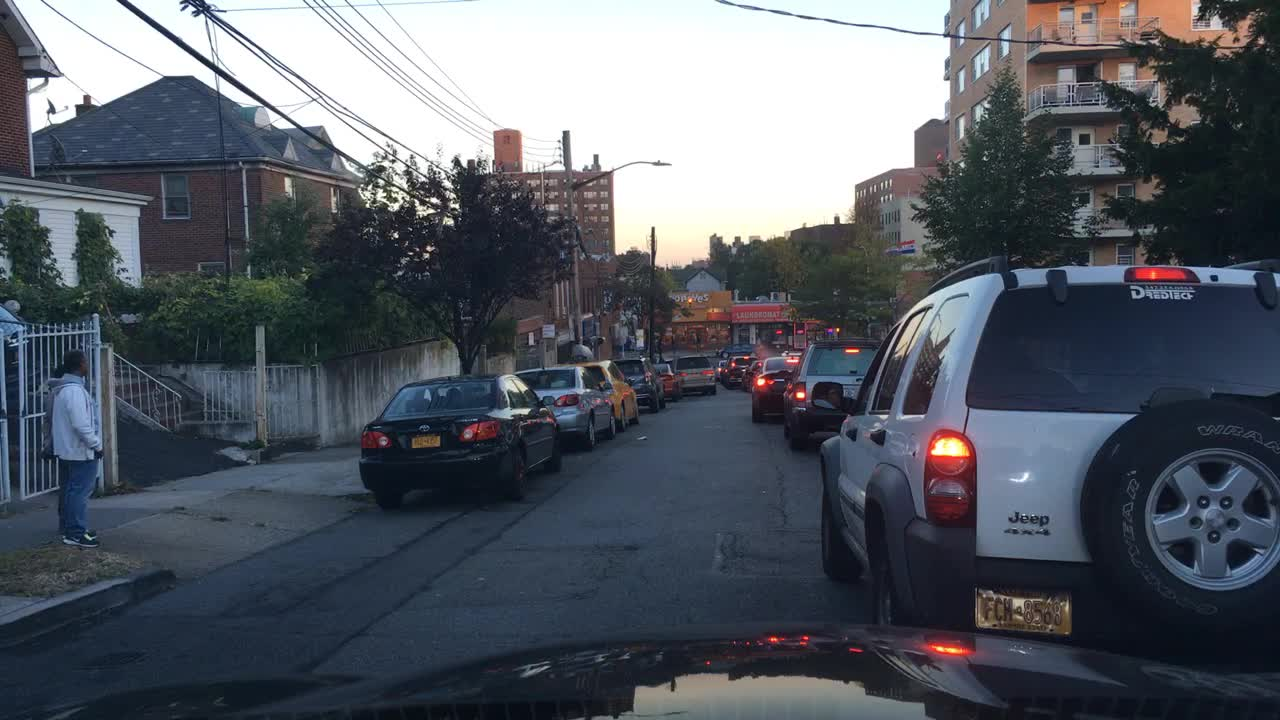car: (811, 257, 1277, 667), (355, 372, 565, 513), (779, 336, 880, 450), (510, 362, 619, 453), (562, 359, 643, 440), (748, 353, 802, 425), (613, 356, 667, 417), (671, 351, 718, 398), (718, 351, 763, 392), (649, 360, 679, 401), (736, 356, 766, 395), (712, 356, 728, 381)
person: (53, 347, 105, 551), (38, 363, 74, 534)
traffic sign: (538, 323, 553, 341)
